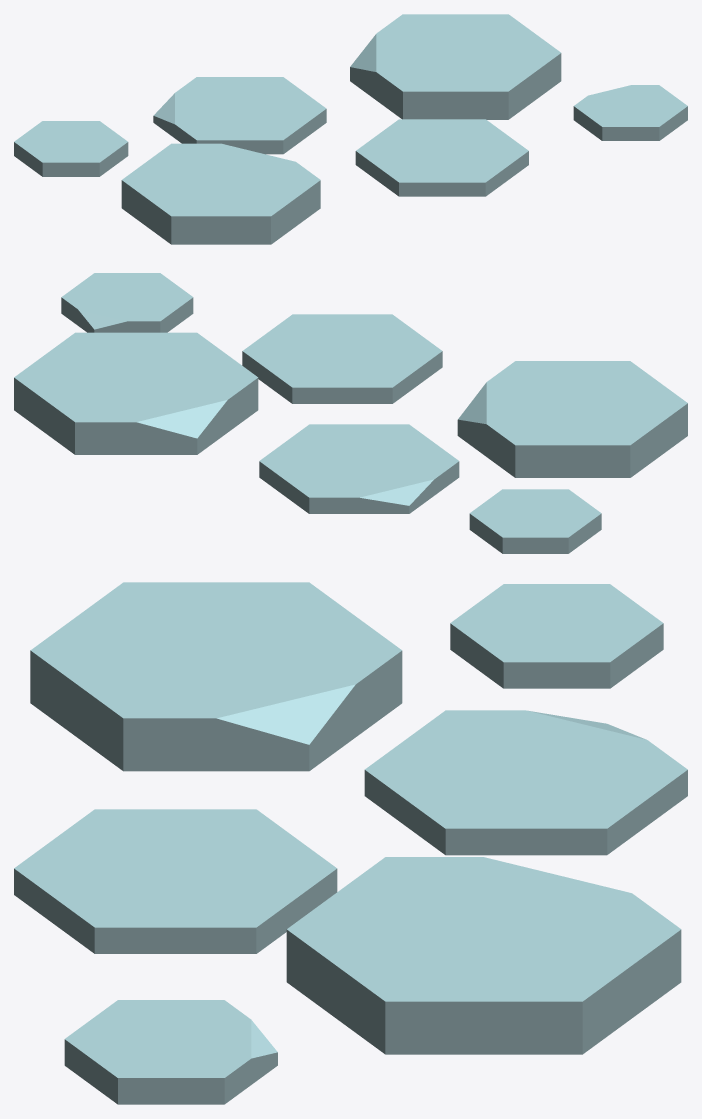
The model's file is path_stone.glb.
3 renders of one model, top to bottom at view 1: azimuth 30°, elevation 25°; view 2: azimuth 150°, elevation 25°; view 3: azimuth 270°, elevation 25°, orthographic. The views are drawn at different scales.
Visible parts, largest first — view 1: path_stone; view 2: path_stone; view 3: path_stone.
Part boxes in pixels (x1=…): path_stone: x1=14, y1=14, x2=687, y2=244; path_stone: x1=14, y1=273, x2=687, y2=553; path_stone: x1=14, y1=582, x2=687, y2=1104.
Bounding box in the file's own units: 1 × 0.05 × 0.5766.
